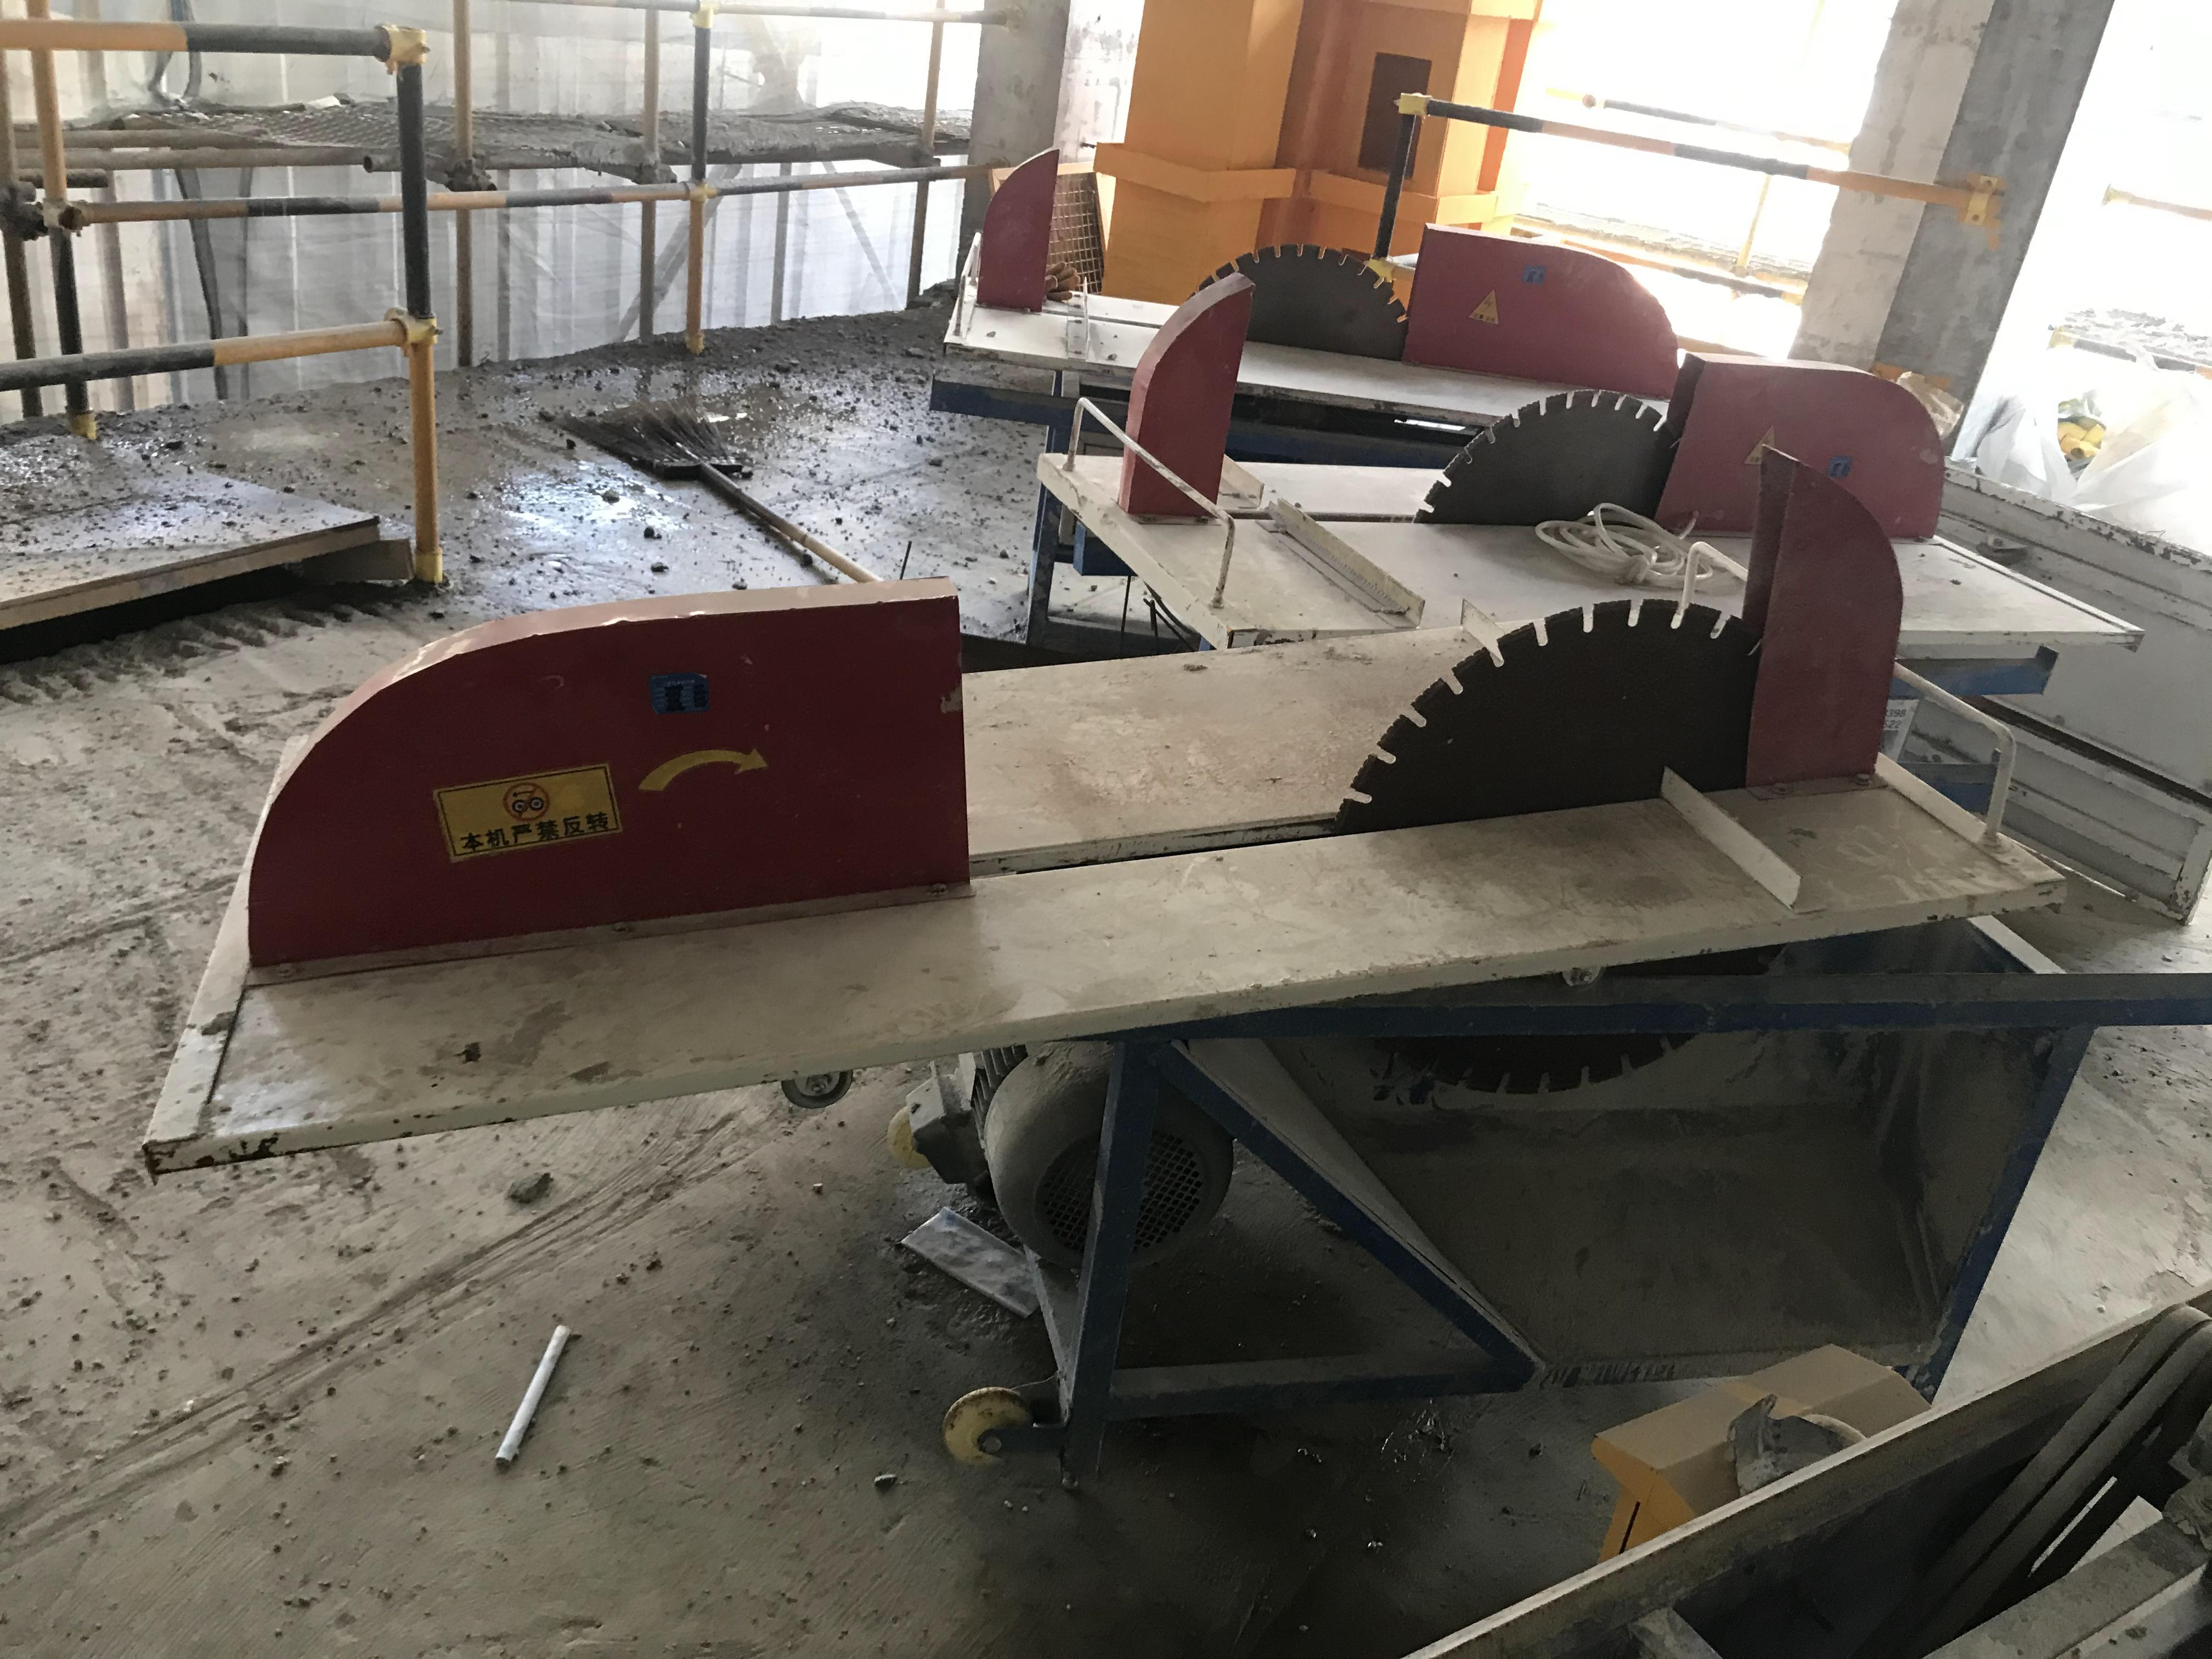cutter: (148, 498, 2212, 1490), (1069, 265, 2146, 690), (923, 146, 1681, 436)
